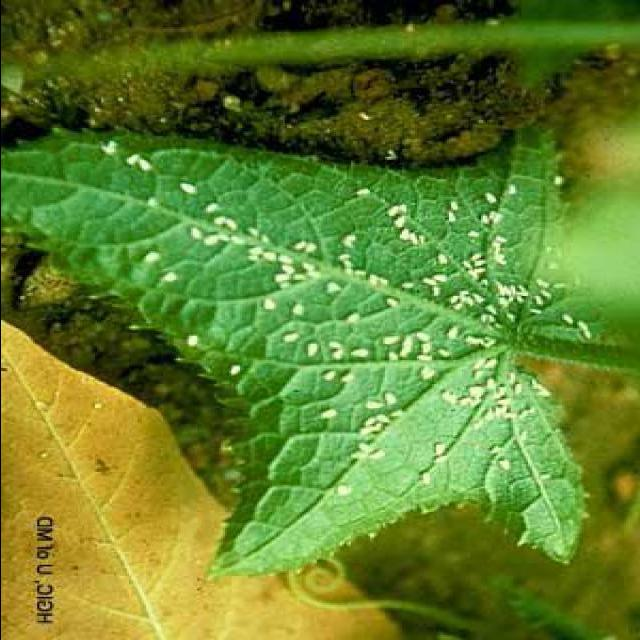Whitefly: (9, 133, 608, 517)
